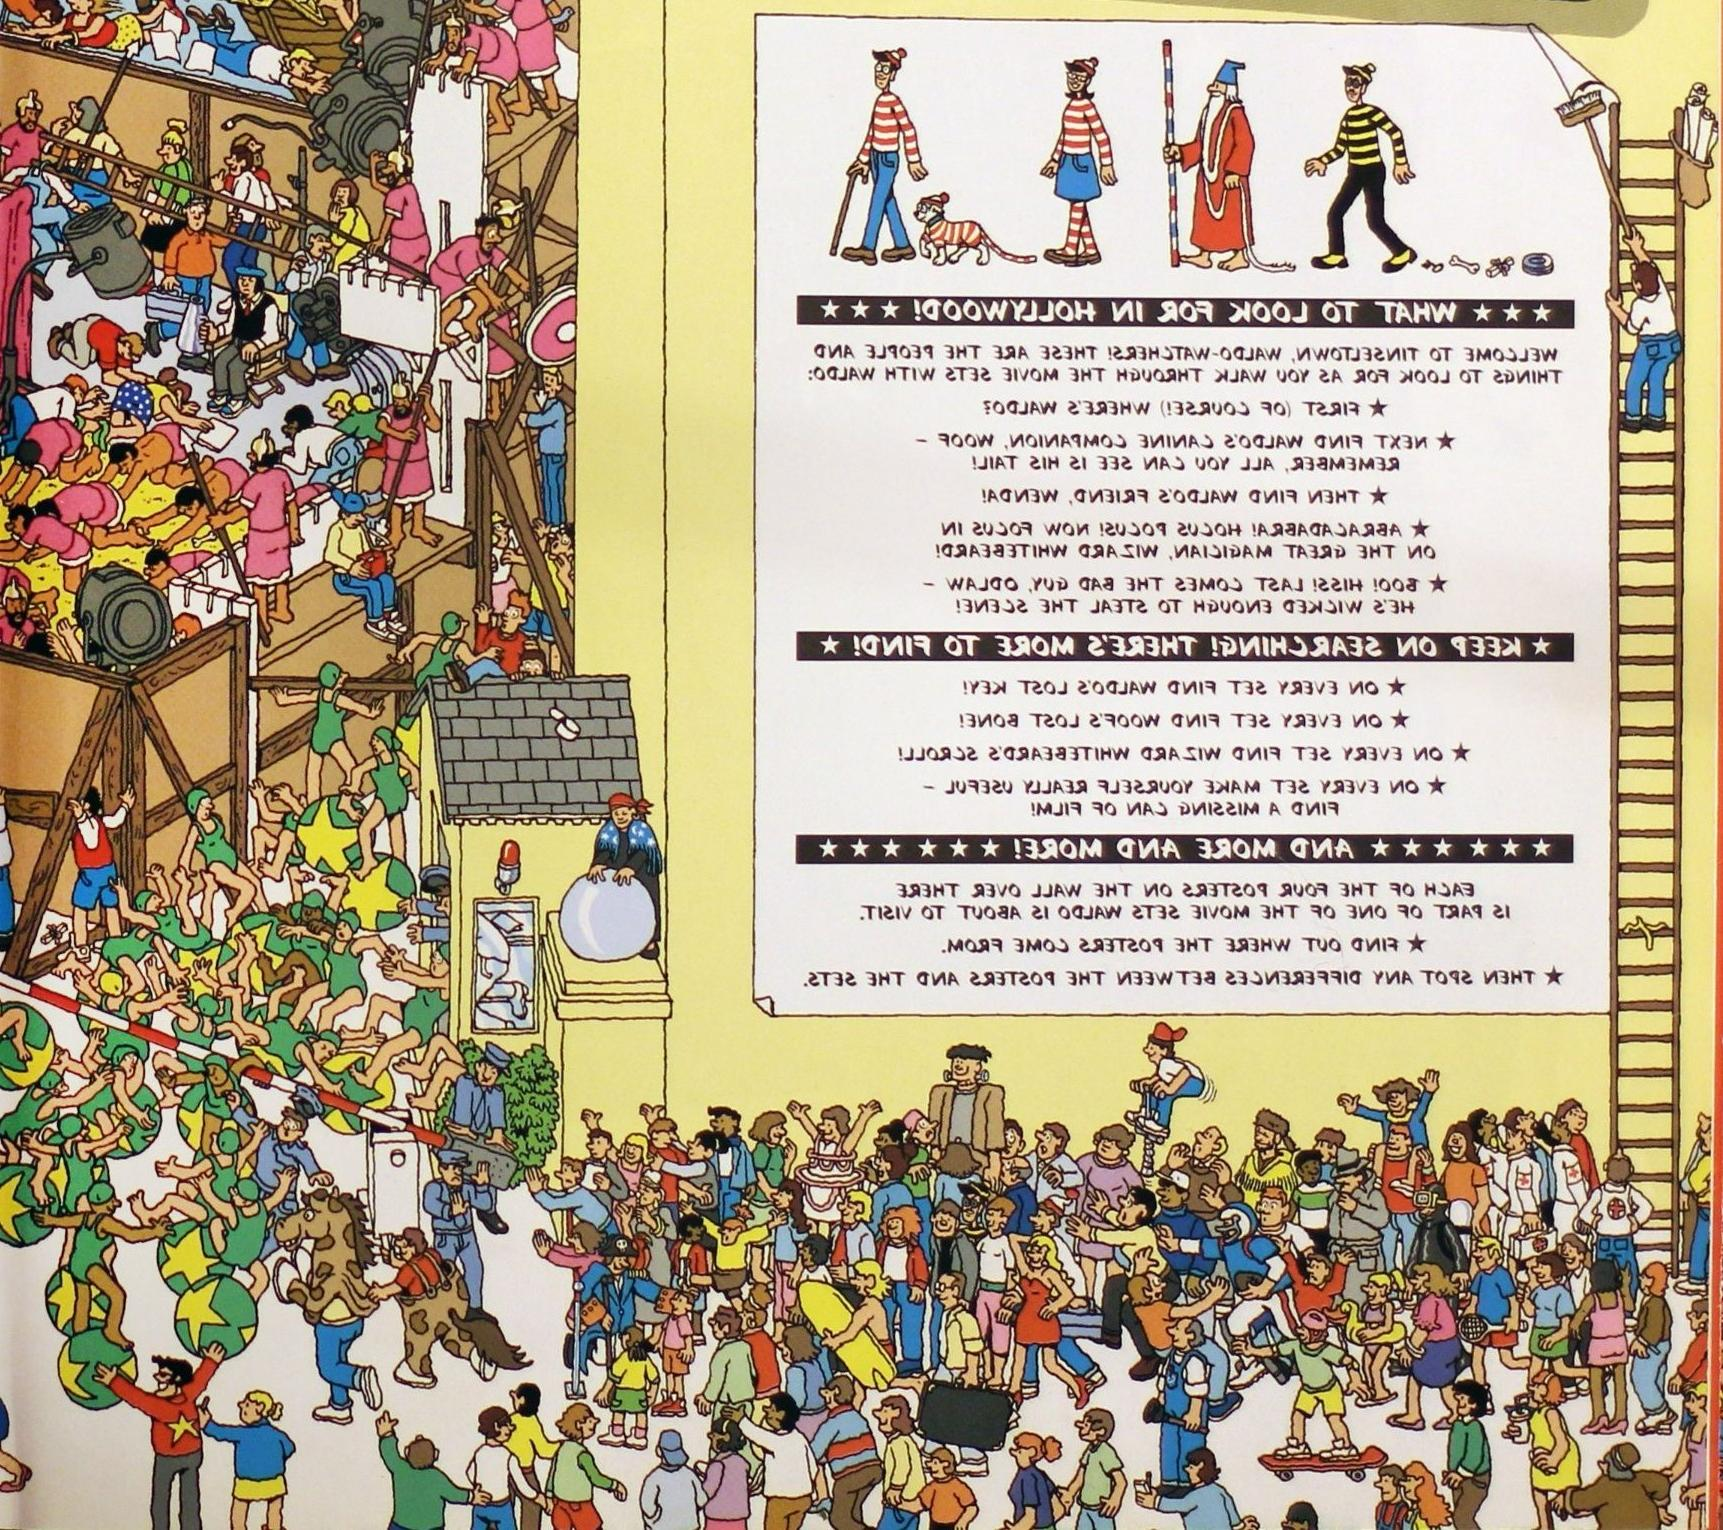waldos: (830, 49, 930, 264)
